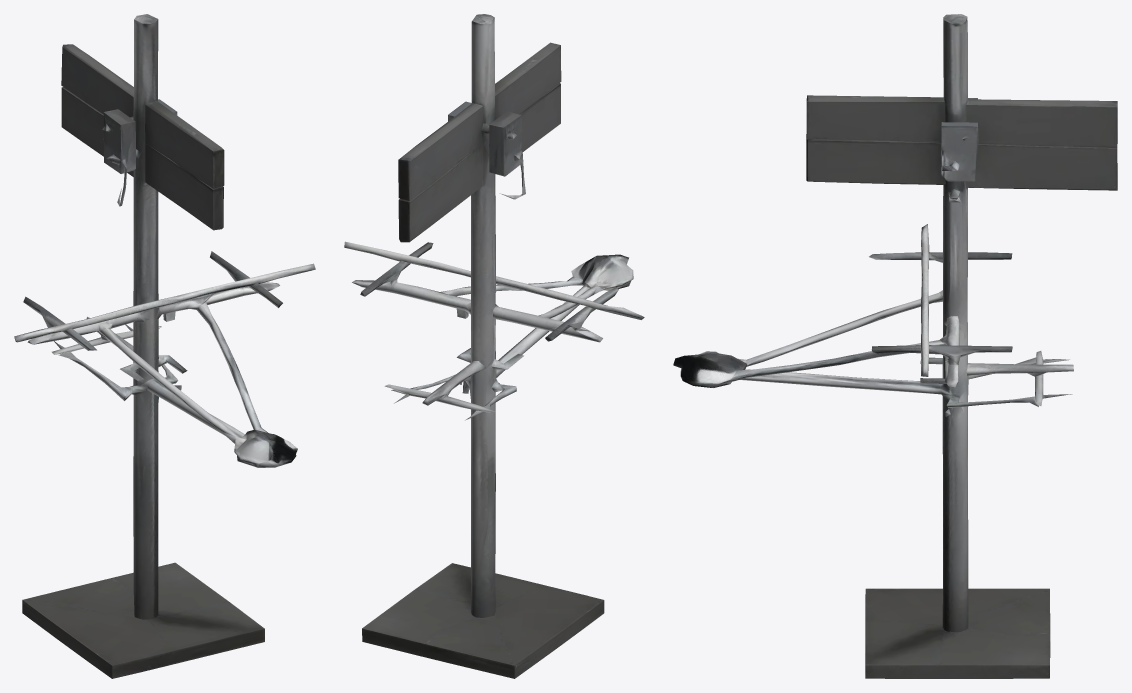
The model's file is m2Antenna.glb.
3 views of the same model, side by side, from view 1: azimuth 30°, elevation 25°; view 2: azimuth 150°, elevation 25°; view 3: azimuth 270°, elevation 25° (orthographic). The views are drawn at different scales.
Visible parts, largest first — view 1: model; view 2: model; view 3: model.
Part boxes in pixels (left/top/right/bottom): model: left=14, top=14, right=315, bottom=678; model: left=344, top=14, right=644, bottom=678; model: left=673, top=14, right=1117, bottom=678.
Bounding box in the file's own units: 0.9697 × 1.89 × 1.22.
Materials: 1 (1 with a texture image).
